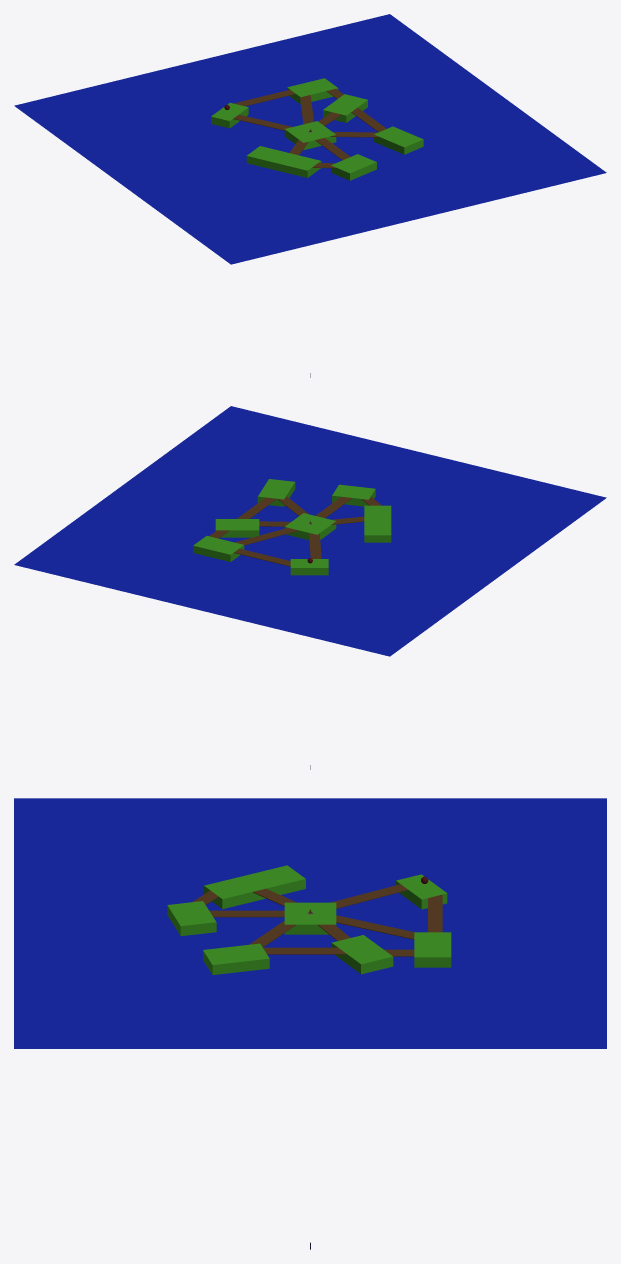
Rendered from islands.gltf.
The picture shows the model from 3 angles, top to bottom: view 1: azimuth 30°, elevation 25°; view 2: azimuth 150°, elevation 25°; view 3: azimuth 270°, elevation 25°; orthographic projection. The views are drawn at different scales.
Visible parts, largest first — view 1: Water, Floor.003, Floor.002, Floor.000, Floor.005, Floor.001, Floor.006, Floor.004; view 2: Water, Floor.003, Floor.000, Floor.001, Floor.006, Floor.002, Floor.005, Floor.004; view 3: Water, Floor.003, Floor.002, Floor.000, Floor.006, Floor.001, Floor.005, Floor.004, Bridge.001, Bridge.006, Bridge.002.
Part boxes in pixels (bbox=[...]): Water: bbox=[14, 14, 606, 264]; Floor.003: bbox=[246, 146, 321, 177]; Floor.002: bbox=[373, 126, 423, 154]; Floor.000: bbox=[284, 121, 336, 150]; Floor.005: bbox=[331, 154, 376, 180]; Floor.001: bbox=[287, 78, 338, 104]; Floor.006: bbox=[323, 94, 367, 122]; Floor.004: bbox=[211, 102, 248, 128]; Water: bbox=[14, 406, 606, 656]; Floor.003: bbox=[364, 505, 391, 542]; Floor.000: bbox=[284, 513, 336, 539]; Floor.001: bbox=[193, 536, 244, 561]; Floor.006: bbox=[215, 519, 259, 537]; Floor.002: bbox=[257, 479, 295, 506]; Floor.005: bbox=[332, 484, 375, 506]; Floor.004: bbox=[290, 559, 328, 575]; Water: bbox=[14, 798, 606, 1048]; Floor.003: bbox=[204, 865, 305, 909]; Floor.002: bbox=[203, 943, 269, 974]; Floor.000: bbox=[284, 902, 336, 934]; Floor.006: bbox=[331, 935, 393, 974]; Floor.001: bbox=[414, 932, 451, 967]; Floor.005: bbox=[167, 901, 216, 936]; Floor.004: bbox=[396, 874, 447, 909]; Bridge.001: bbox=[336, 915, 414, 939]; Bridge.006: bbox=[263, 947, 346, 954]; Bridge.002: bbox=[331, 884, 407, 908].
Bounding box in the file's own units: 160 × 103 × 160.
Materials: 24 (24 with a texture image).
